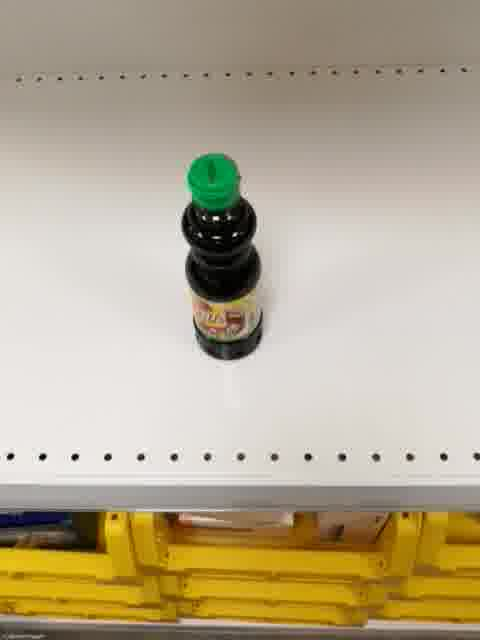cookingoil: (179, 151, 265, 363)
